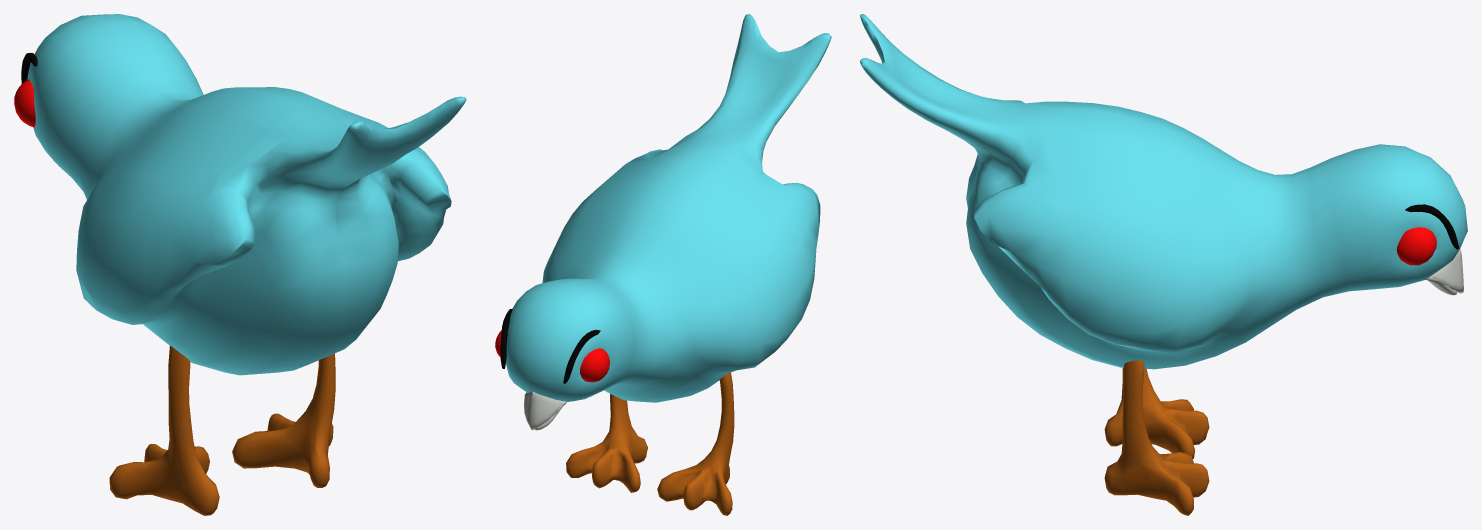
The model's file is SHITHAWK_ATTACK.FBX.
3 views of the same model, side by side, from view 1: azimuth 30°, elevation 25°; view 2: azimuth 150°, elevation 25°; view 3: azimuth 270°, elevation 25° (orthographic). The views are drawn at different scales.
Visible parts, largest first — view 1: SHIT_HAWK_ATTACK; view 2: SHIT_HAWK_ATTACK; view 3: SHIT_HAWK_ATTACK.
Part boxes in pixels (left/top/right/bottom): SHIT_HAWK_ATTACK: left=14, top=14, right=466, bottom=515; SHIT_HAWK_ATTACK: left=495, top=14, right=831, bottom=515; SHIT_HAWK_ATTACK: left=860, top=14, right=1467, bottom=515.
Bounding box in the file's own units: 1.02 × 1.55 × 1.97.
